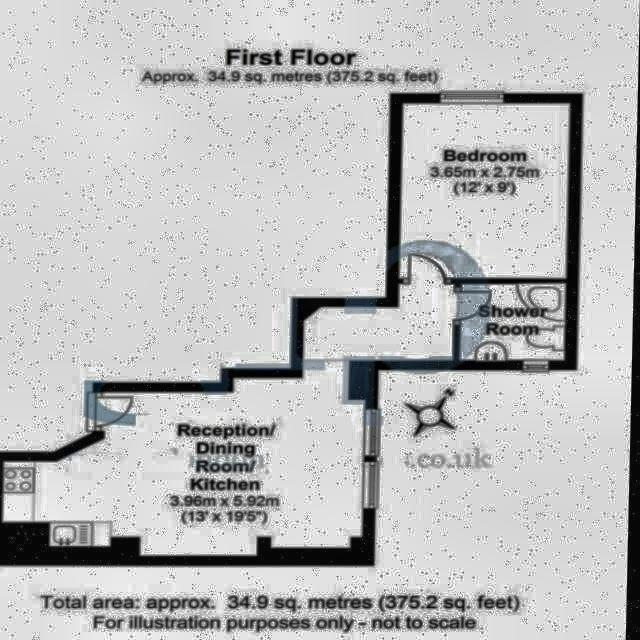room: (0, 278, 480, 580), (399, 100, 571, 282), (461, 284, 567, 360)
